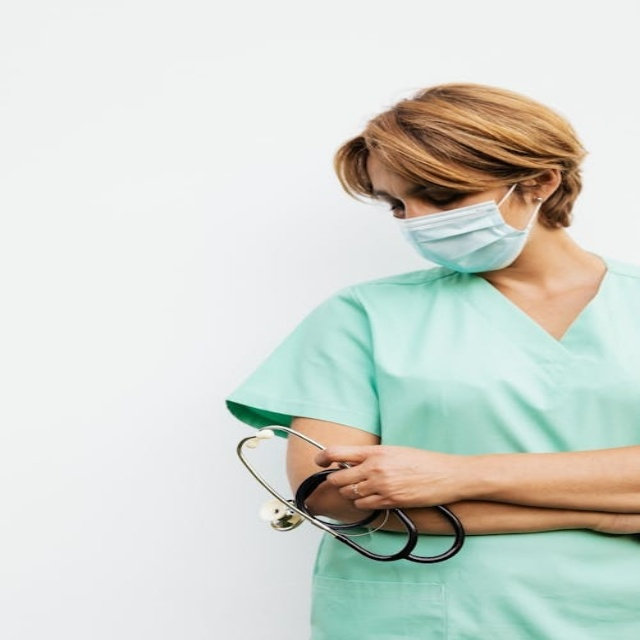Mascara: (397, 182, 540, 274)
Sin_gafas: (367, 181, 465, 214)
Sin_guantes: (313, 441, 460, 512)
